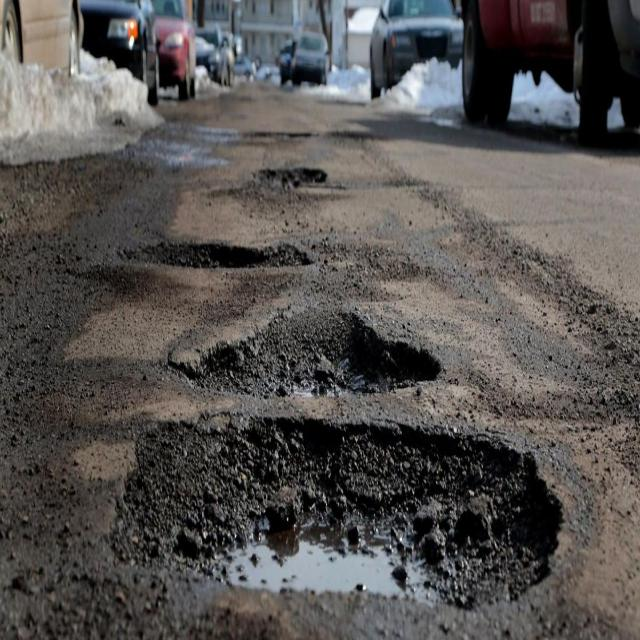Pothole: (116, 409, 567, 614), (166, 305, 445, 407), (115, 234, 317, 276), (252, 163, 330, 200), (236, 125, 321, 148)
